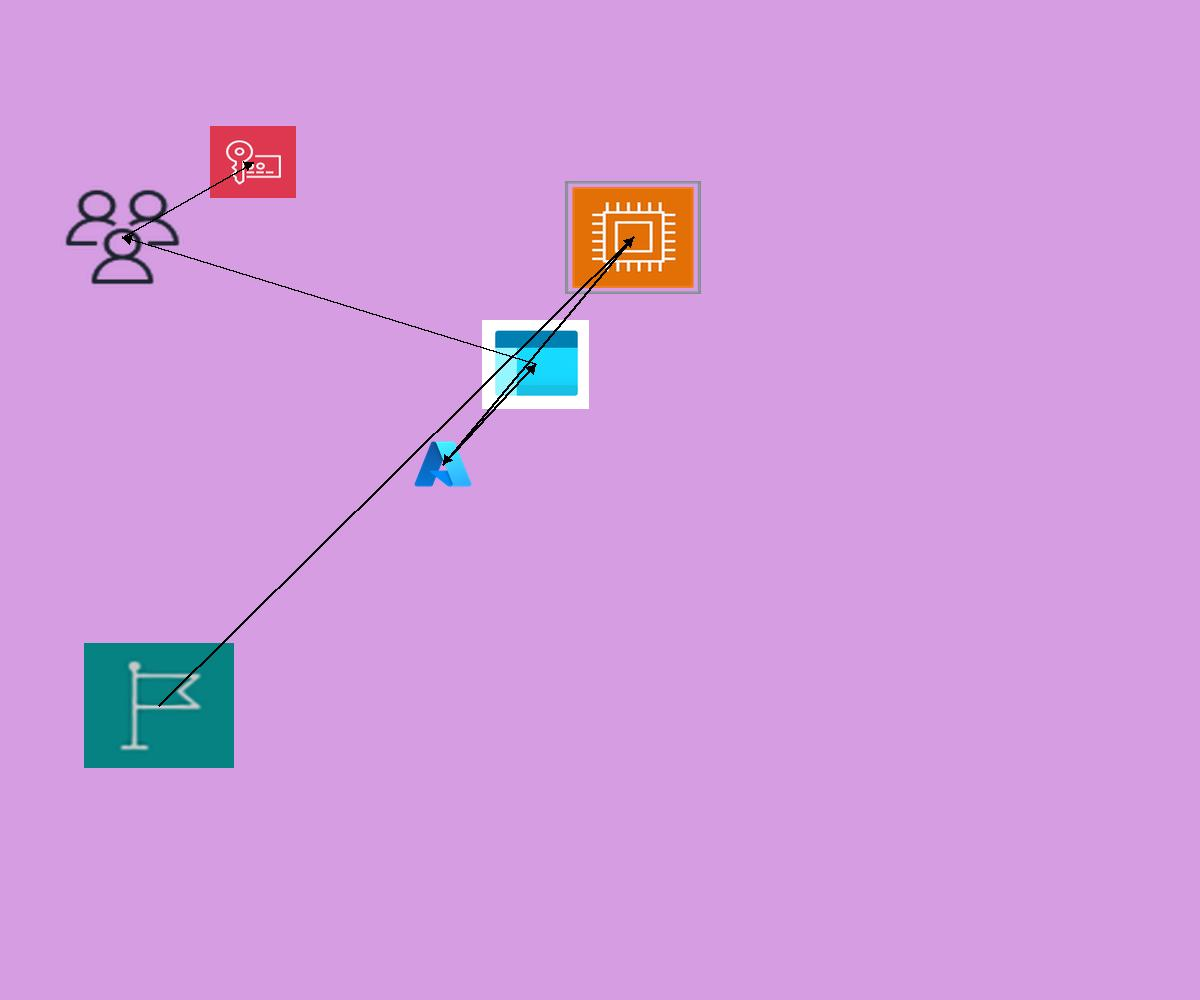AWS-Category_Compute: (565, 181, 701, 294)
AWS-Key-Management-Service: (210, 126, 296, 198)
AWS-Region: (84, 643, 234, 768)
AWS-Res_Users: (61, 186, 184, 288)
Azure_management-portal: (482, 320, 589, 409)
Azure_services: (412, 438, 474, 490)
